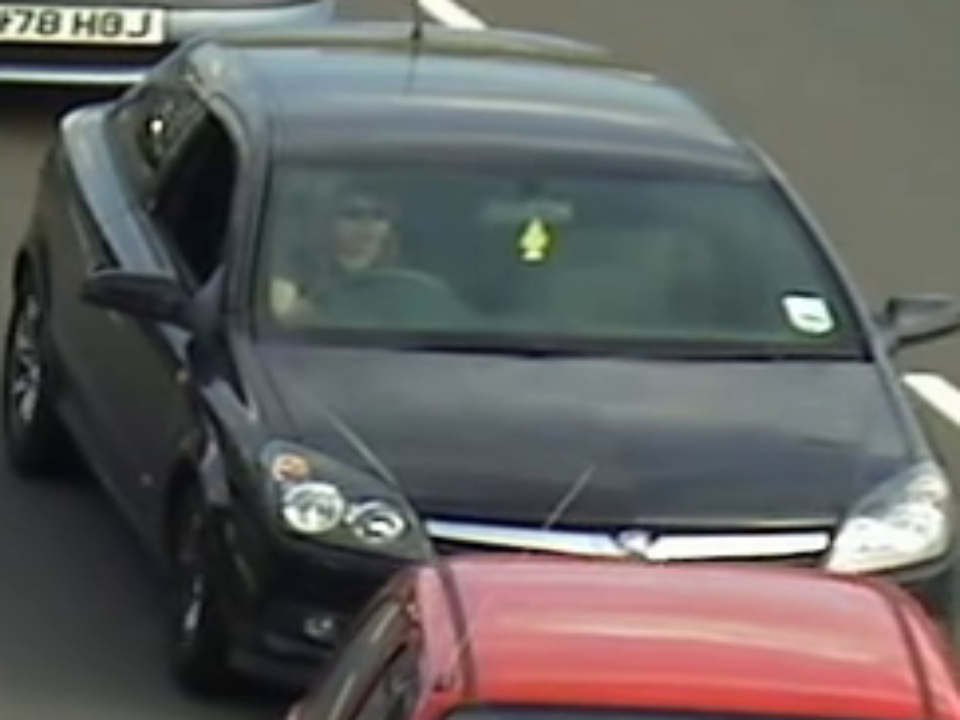ONE: (261, 166, 842, 341)
